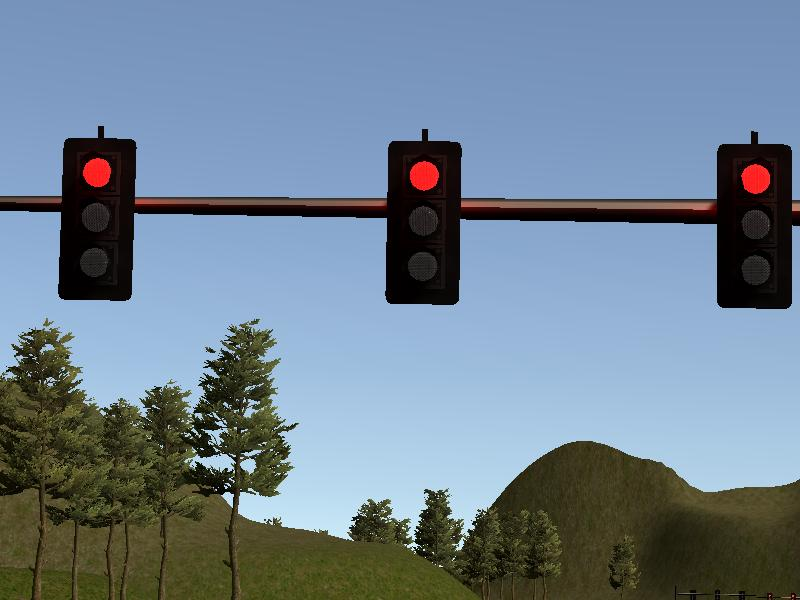Red: (719, 144, 792, 310), (386, 139, 458, 306), (64, 137, 130, 300)
